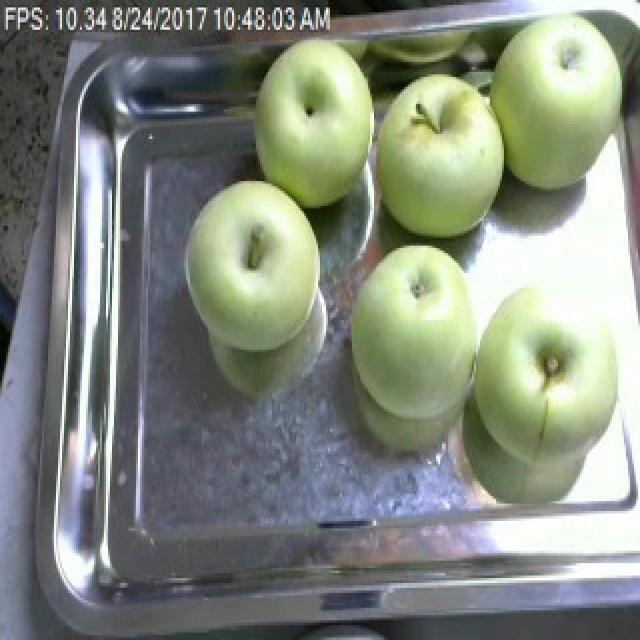50-_ripeness: (492, 0, 622, 230), (184, 157, 323, 363), (473, 281, 635, 457), (380, 72, 513, 255), (339, 248, 476, 421), (247, 36, 370, 226)
